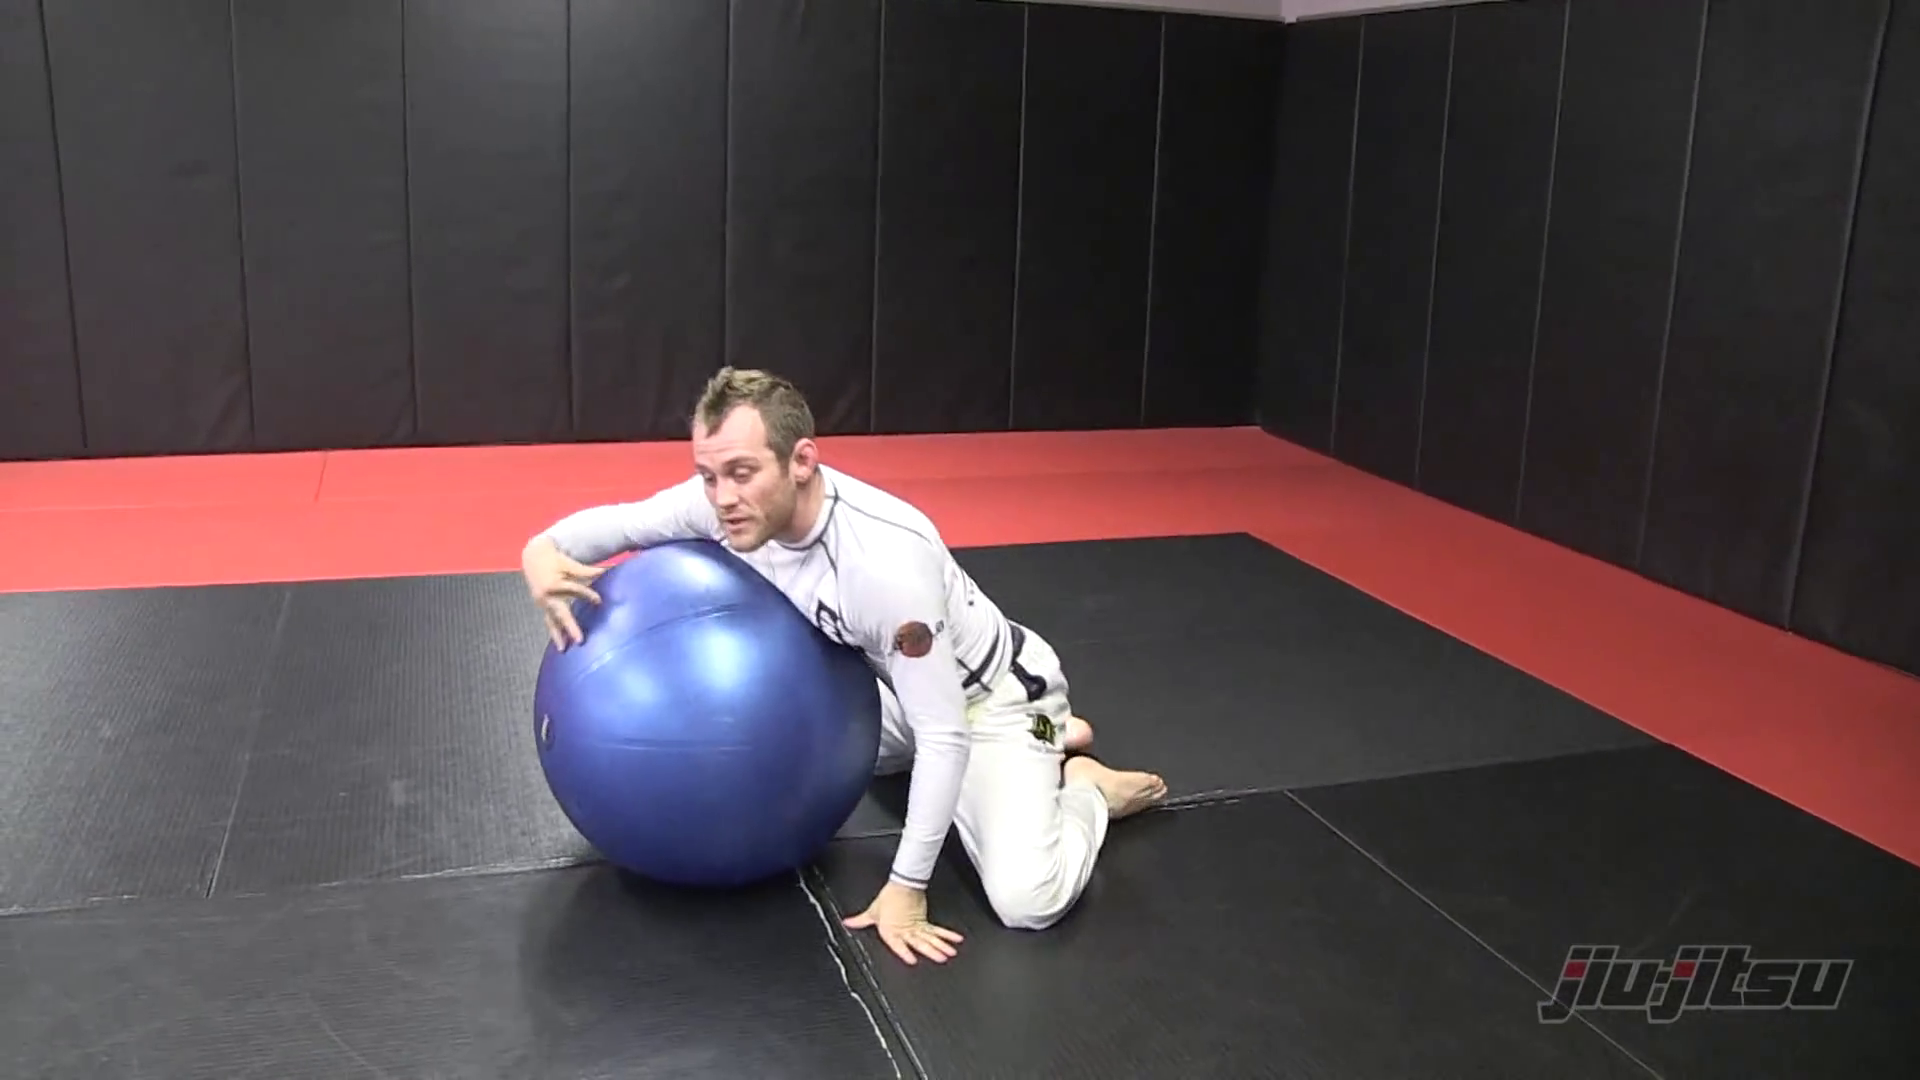yogaball: (520, 535, 891, 914)
